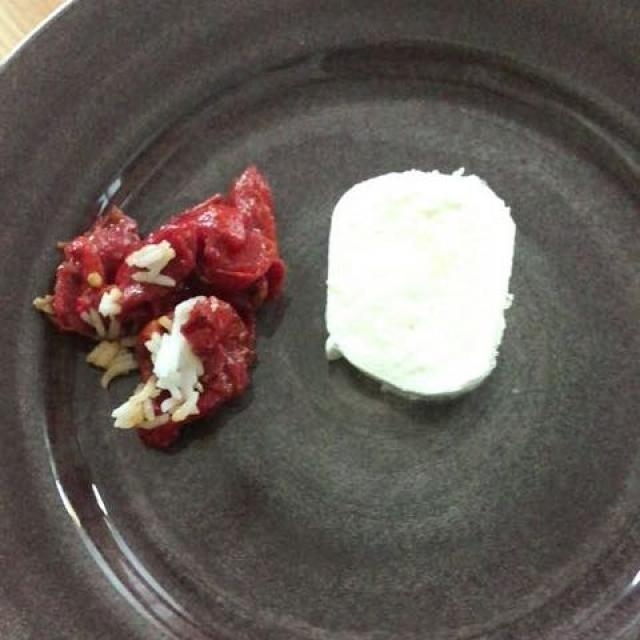bell-pepper: (28, 170, 294, 450)
cheese: (313, 131, 530, 424)
